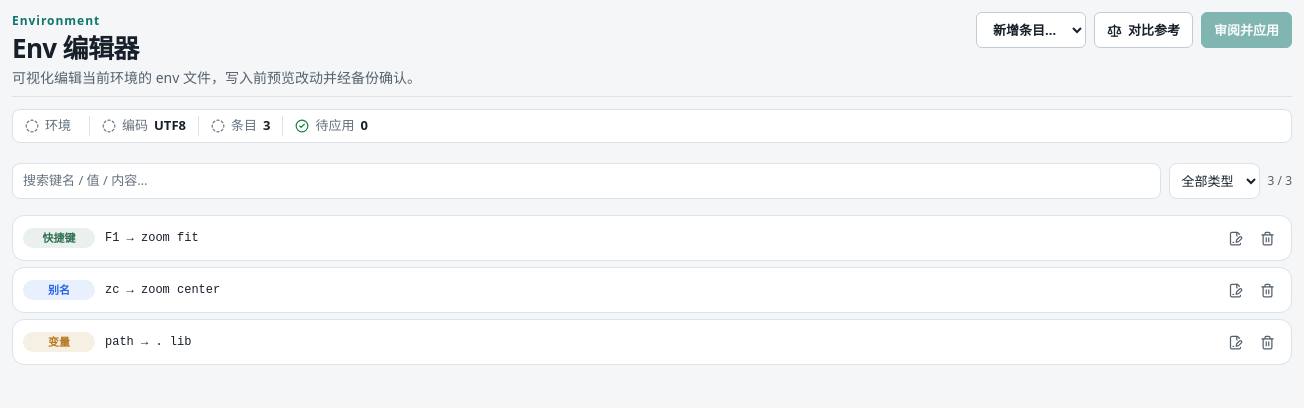
Test: EnvEditorPage - 搜索与筛选 › 关键词搜索与类型筛选应过滤条目
Expected: the number of list items with class "env-editor-row" is 3, x1=12 y1=215 x2=1292 y2=261; x1=12 y1=267 x2=1292 y2=313; x1=12 y1=319 x2=1292 y2=365
Step 1. Type "zoom" into the field with class "env-editor-search" → (586, 181), box x1=12 y1=163 x2=1160 y2=199
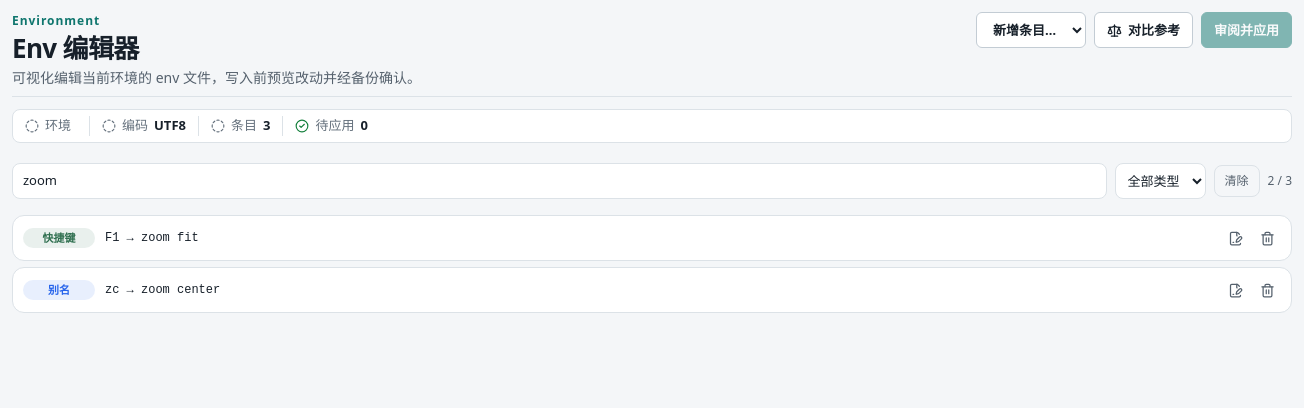
Now the number of list items with class "env-editor-row" is 2, box x1=12 y1=215 x2=1292 y2=261; x1=12 y1=267 x2=1292 y2=313
Step 2. Clear the field with class "env-editor-search" → (559, 181), box x1=12 y1=163 x2=1106 y2=199
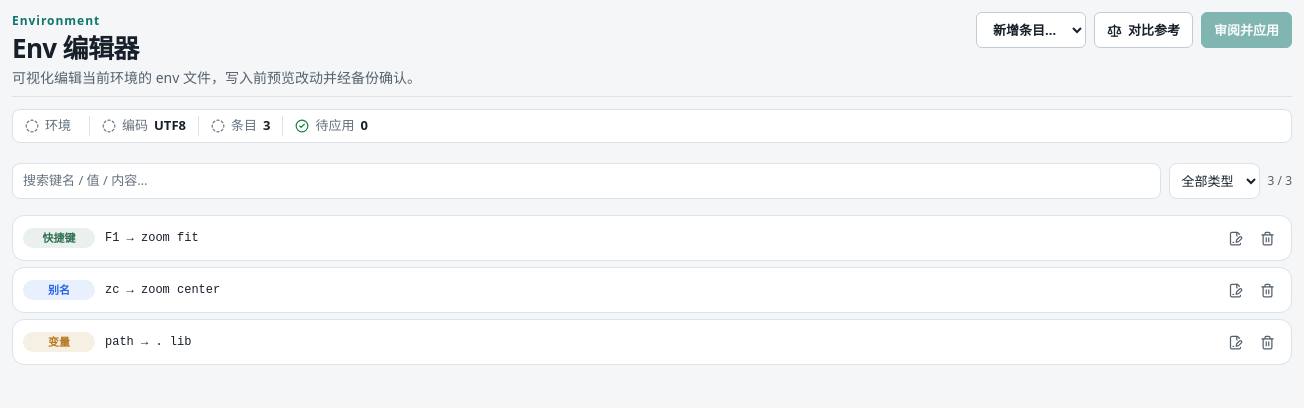
Step 3. Select "变量" in the dropdown with class "env-editor-type-filter" → (1214, 181), box x1=1168 y1=163 x2=1260 y2=199
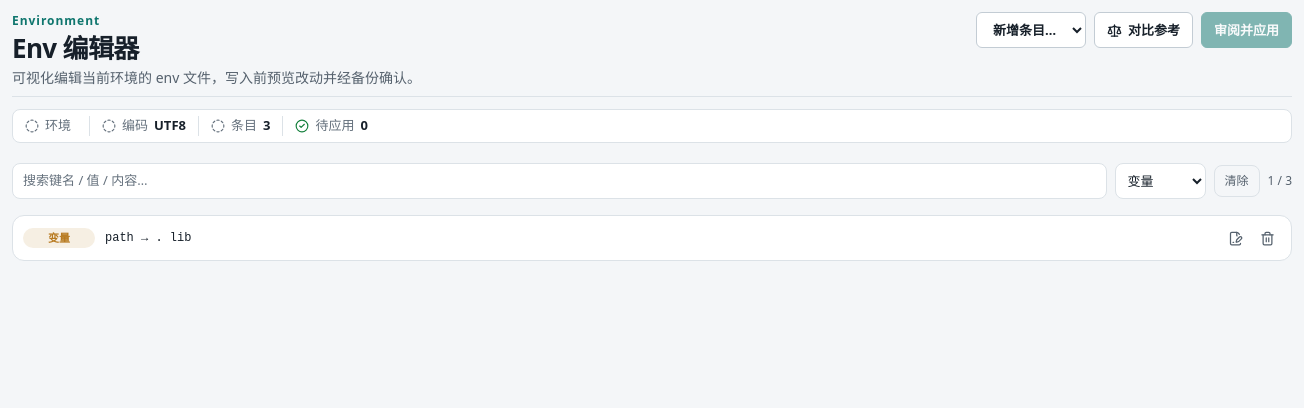
Now the number of list items with class "env-editor-row" is 1, box x1=12 y1=215 x2=1292 y2=261
Step 4. Type "path" into the field with class "env-editor-search" → (559, 181), box x1=12 y1=163 x2=1106 y2=199
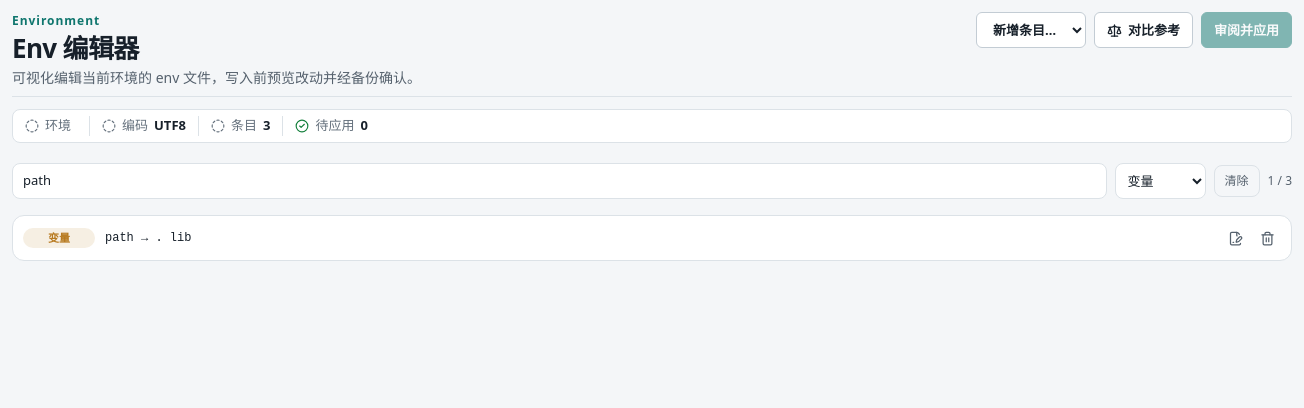
Now the number of list items with class "env-editor-row" is 1, box x1=12 y1=215 x2=1292 y2=261
Step 5. Replace the text in the field with class "env-editor-search" with "zzz-nomatch" → (559, 181), box x1=12 y1=163 x2=1106 y2=199
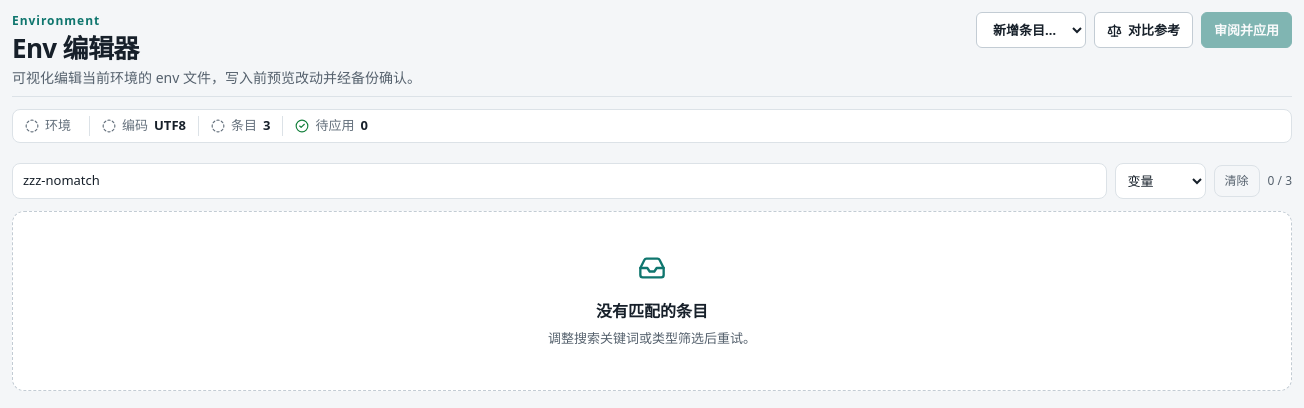
Now no list items with class "env-editor-row" are shown
Now the heading "没有匹配的条目" is shown, box x1=596 y1=300 x2=708 y2=322
